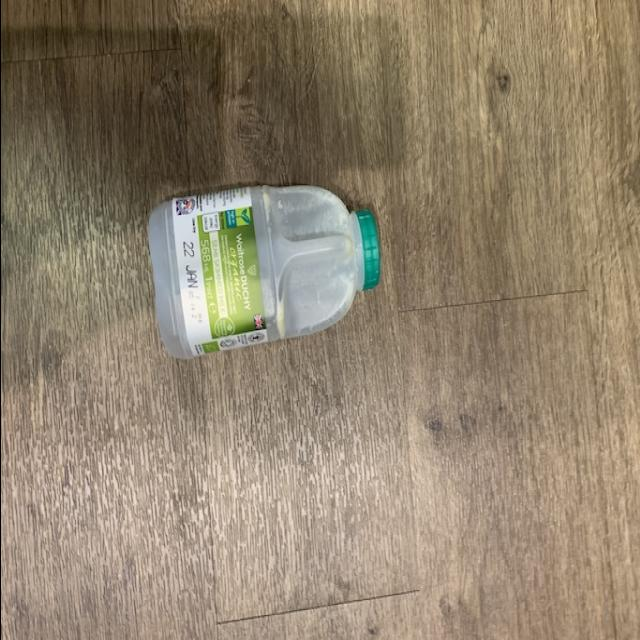litter: (140, 168, 380, 364)
